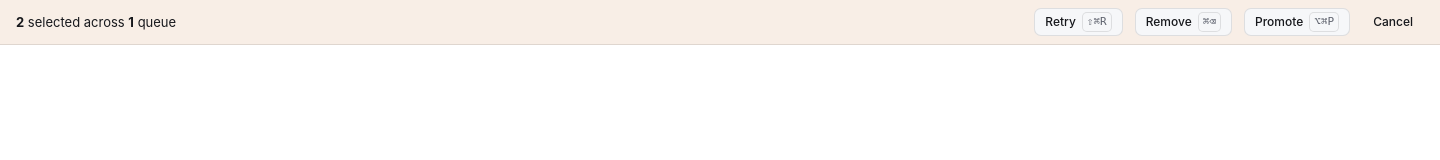
it: BulkActionBar: executing + complete states › Enter on preview transitions to executing then complete on resolve
Click the button with test id "bulk-action-retry". click: (1078, 22)
box: [1034,8,1123,36]
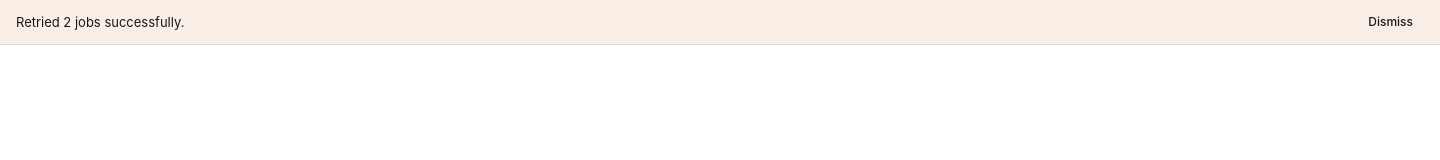
Expected: the text with test id "bulk-action-bar-complete" shows "Retried 2 jobs successfully", [16,14,184,30]
